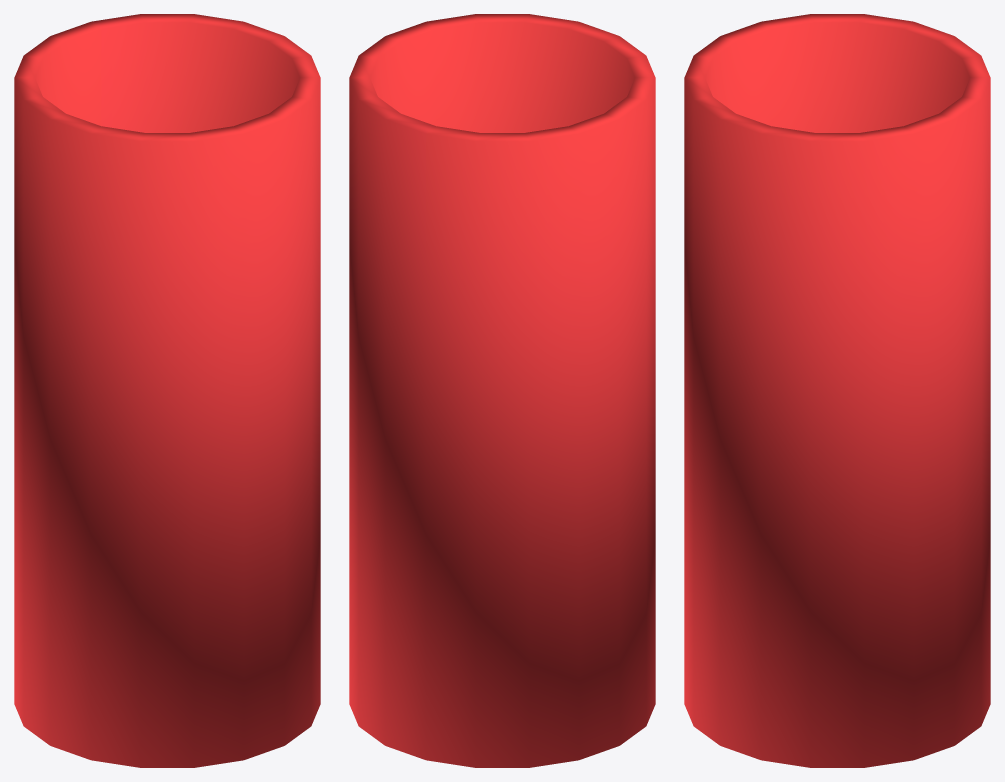
Rendered from sand_jar.fbx.
3 views of the same model, side by side, from view 1: azimuth 30°, elevation 25°; view 2: azimuth 150°, elevation 25°; view 3: azimuth 270°, elevation 25° (orthographic).
Parts seen in each view (by area): view 1: Tube 1.003; view 2: Tube 1.003; view 3: Tube 1.003.
Part boxes in pixels (x1,y1,x2,y2): Tube 1.003: (14,14,320,767); Tube 1.003: (349,14,655,767); Tube 1.003: (684,14,990,767).
Bounding box in the file's own units: 0.4852 × 1.11 × 0.4927.
